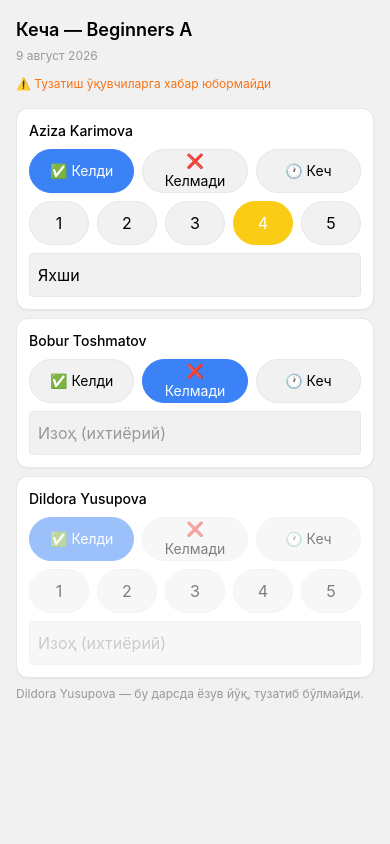
Scenario: Yesterday — a student with no attendance record › leaves the other students correctable
The width and height of the screenshot is (390, 844).
Expected: the text "Dildora Yusupova" is shown, [29,490,147,507]
Click the button "🕐 Кеч" below "Aziza Karimova" at [308, 171], box [256,149,361,193]
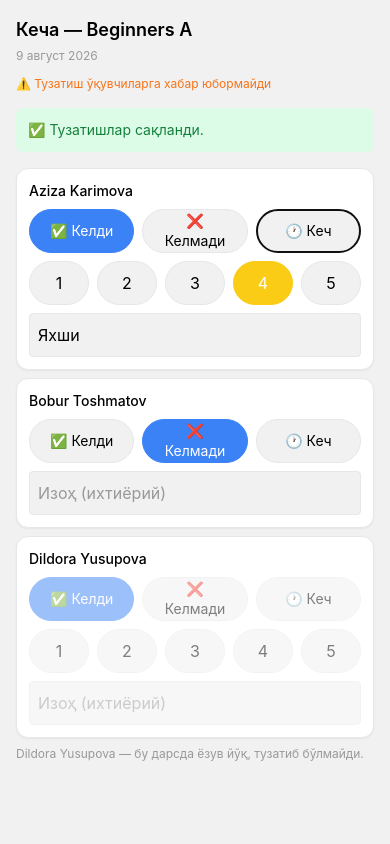
Expected: the text "✅ Тузатишлар сақланди." is shown, [16,108,374,152]
